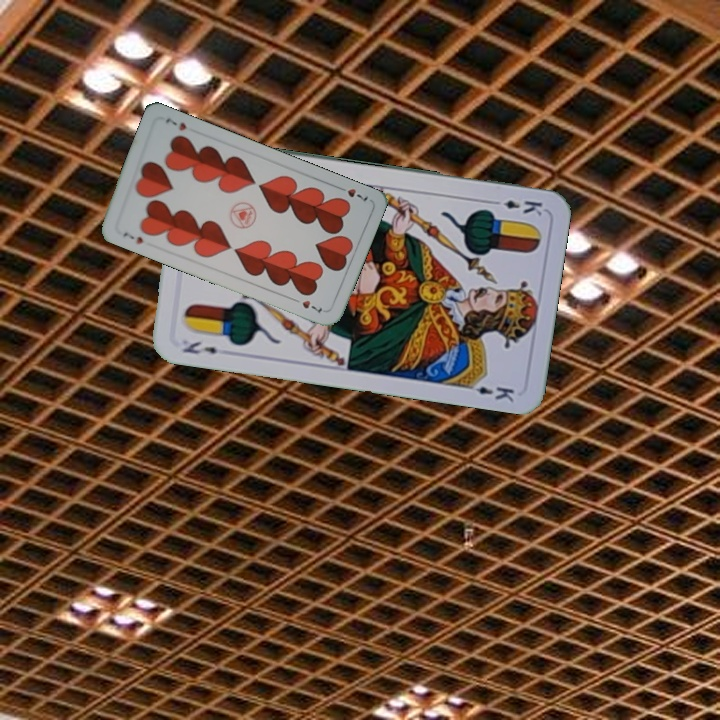EK: (486, 196, 545, 218), (179, 337, 220, 357)
H7: (333, 182, 371, 205), (119, 228, 146, 247)
